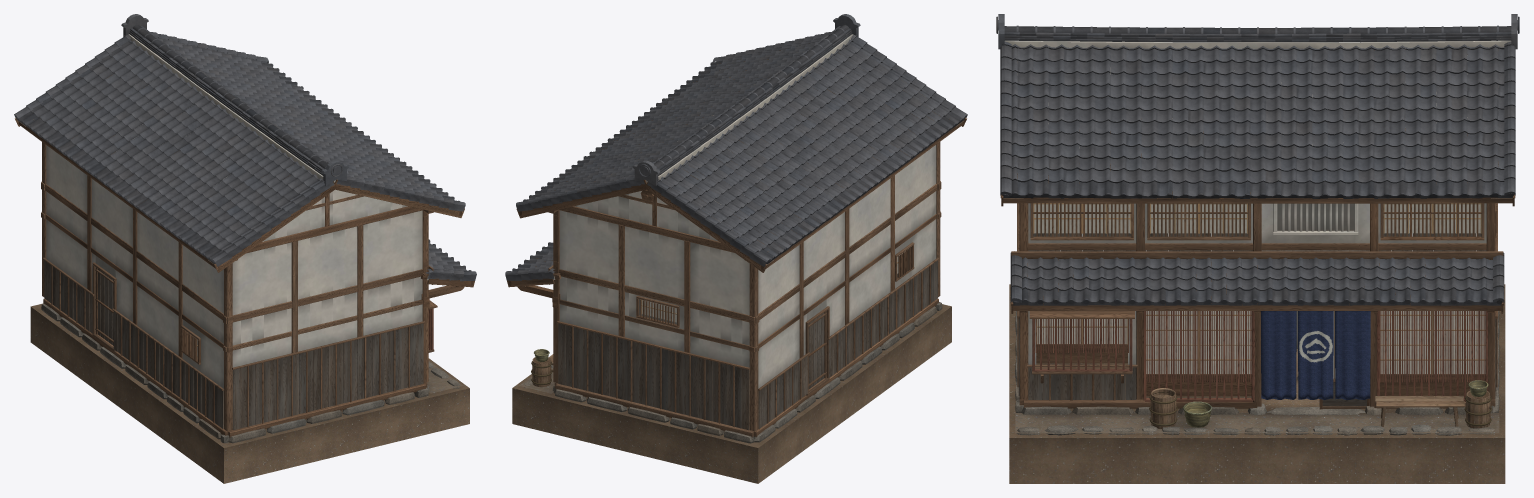
Rendered from machiya_a.glb.
3 views of the same model, side by side, from view 1: azimuth 30°, elevation 25°; view 2: azimuth 150°, elevation 25°; view 3: azimuth 270°, elevation 25° (orthographic). The views are drawn at different scales.
Visible parts, largest first — view 1: machiya_a_tile_ibushi, machiya_a_plaster_white, machiya_a_wood_dark, machiya_a_earth_floor, machiya_a_wood_weathered, machiya_a_stone_granite#curb, machiya_a_tile_manju; view 2: machiya_a_tile_ibushi, machiya_a_plaster_white, machiya_a_wood_dark, machiya_a_earth_floor, machiya_a_wood_weathered, machiya_a_stone_granite#curb, machiya_a_tile_manju, machiya_a_wood_aged; view 3: machiya_a_tile_ibushi, machiya_a_wood_dark, machiya_a_earth_floor, machiya_a_wood_dark#bengara, machiya_a_paper_shoji, machiya_a_noren_a, machiya_a_plaster_white, machiya_a_earth_floor#tataki, machiya_a_stone_granite#curb, machiya_a_wood_dark#koshi, machiya_a_wood_weathered, machiya_a_wood_fresh (+5 smaller).
Boxes of the visible parts, <box> form: machiya_a_tile_ibushi: <box>14,14,476,281</box>; machiya_a_plaster_white: <box>46,34,428,388</box>; machiya_a_wood_dark: <box>15,75,474,437</box>; machiya_a_earth_floor: <box>30,303,469,483</box>; machiya_a_wood_weathered: <box>17,120,423,430</box>; machiya_a_stone_granite#curb: <box>41,303,460,443</box>; machiya_a_tile_manju: <box>15,63,471,271</box>; machiya_a_tile_ibushi: <box>505,14,967,280</box>; machiya_a_plaster_white: <box>553,34,936,388</box>; machiya_a_wood_dark: <box>507,43,966,437</box>; machiya_a_earth_floor: <box>512,304,951,483</box>; machiya_a_wood_weathered: <box>558,80,964,430</box>; machiya_a_stone_granite#curb: <box>524,302,942,443</box>; machiya_a_tile_manju: <box>512,62,962,270</box>; machiya_a_wood_aged: <box>532,354,553,387</box>; machiya_a_tile_ibushi: <box>996,14,1519,305</box>; machiya_a_wood_dark: <box>1000,49,1515,409</box>; machiya_a_earth_floor: <box>1009,284,1505,483</box>; machiya_a_wood_dark#bengara: <box>1032,311,1487,401</box>; machiya_a_paper_shoji: <box>1034,204,1485,378</box>; machiya_a_noren_a: <box>1261,311,1370,400</box>; machiya_a_plaster_white: <box>1004,40,1511,364</box>; machiya_a_earth_floor#tataki: <box>1015,413,1499,433</box>; machiya_a_stone_granite#curb: <box>1015,311,1499,435</box>; machiya_a_wood_dark#koshi: <box>1033,203,1481,236</box>; machiya_a_wood_weathered: <box>1003,49,1512,406</box>; machiya_a_wood_fresh: <box>1033,203,1485,374</box>.
Bounding box in the file's own units: 6.94 × 7.41 × 9.19.
14 materials, 13 textured.
